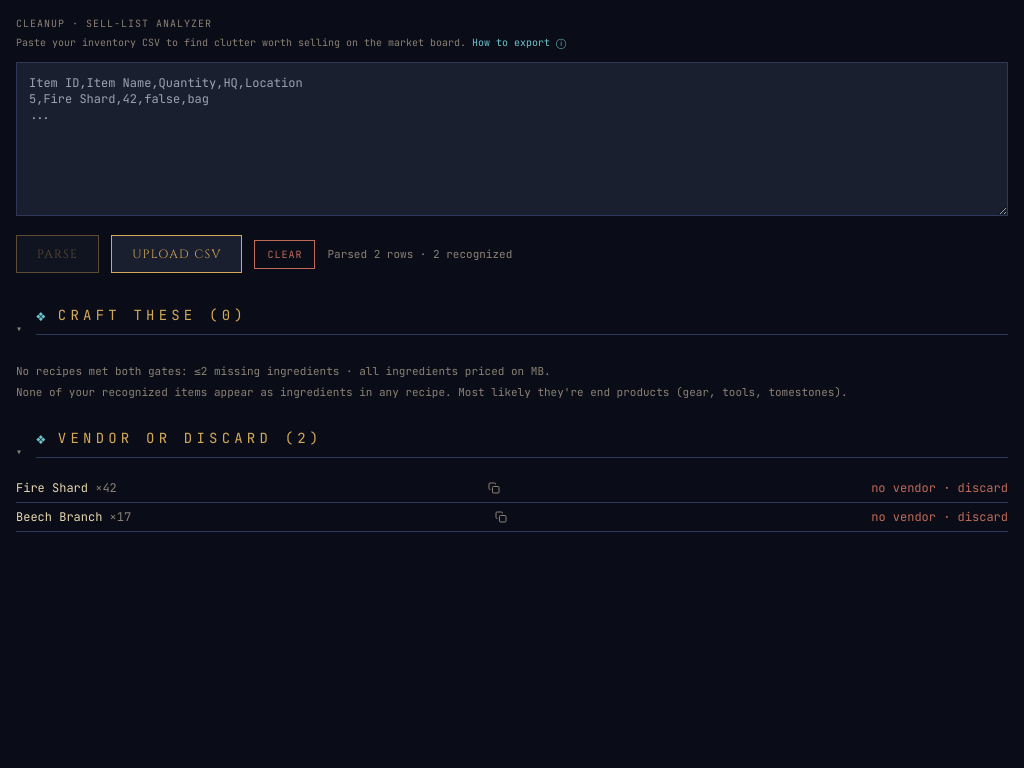
Test: CleanupView › shows the parse error when the paste has no headers
This screenshot has width=1024, height=768.
Step 1. Type "random text without headers" into the text box named "Allagan CSV paste" → (512, 139), box top-left (16, 62), bottom-right (1008, 216)
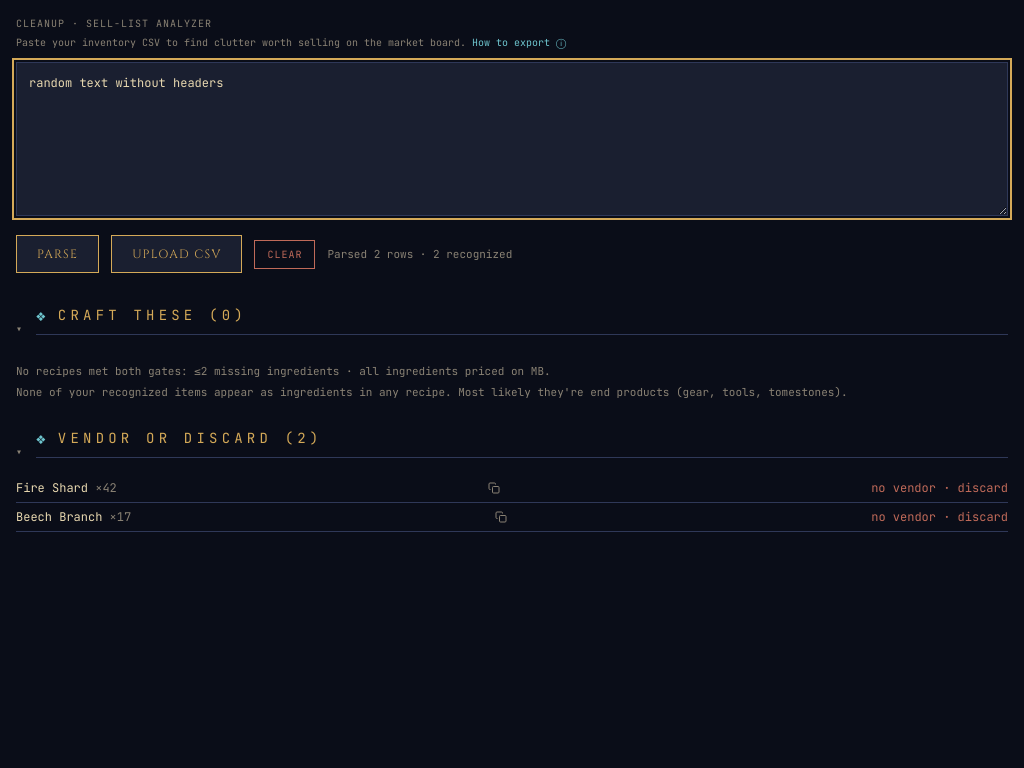
Step 2. Click the button "Parse" → (58, 254), box top-left (16, 235), bottom-right (99, 273)
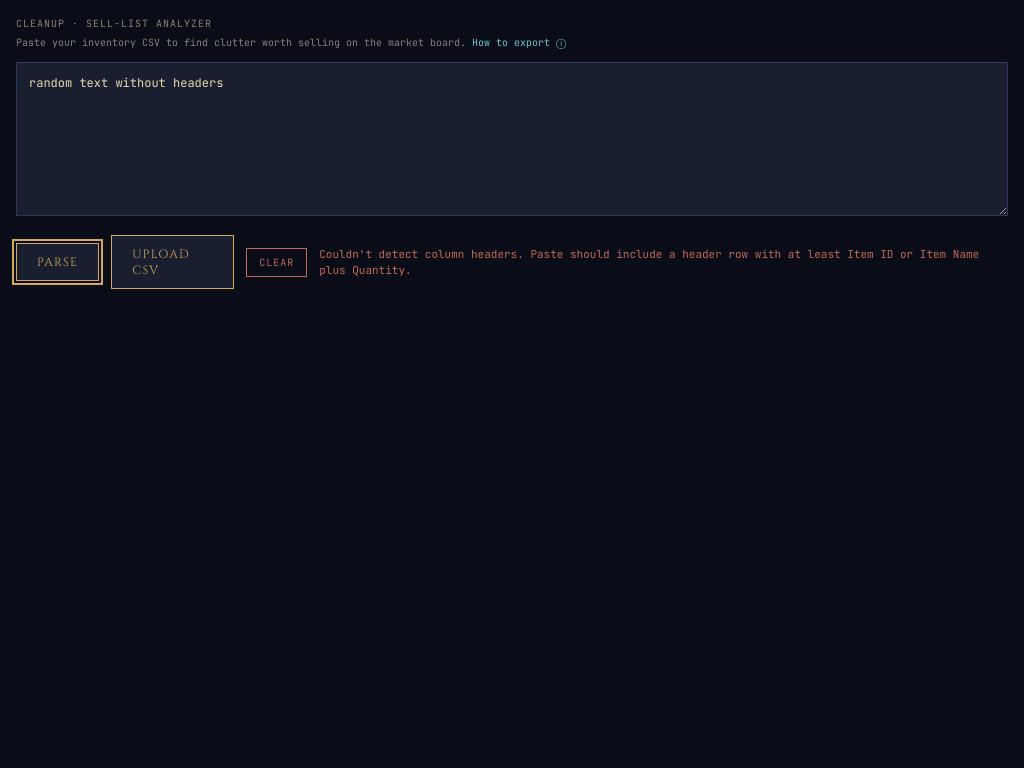
Expected: the text "detect column headers" is shown, top-left (319, 246), bottom-right (979, 277)
